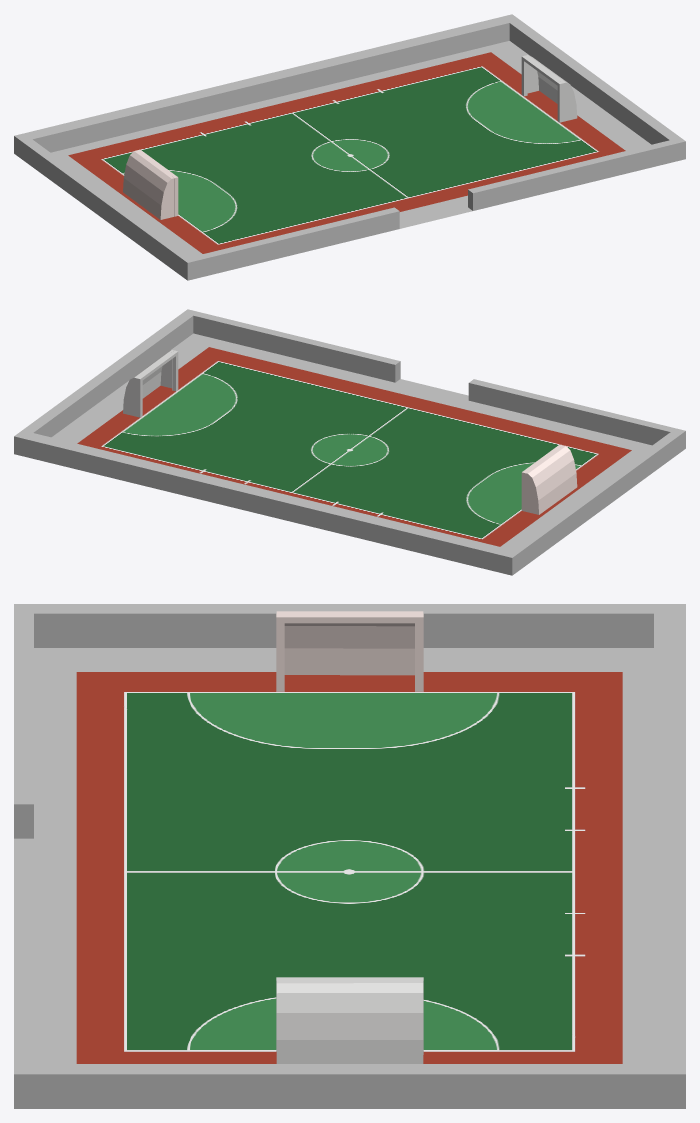
3 renders of one model, top to bottom at view 1: azimuth 30°, elevation 25°; view 2: azimuth 150°, elevation 25°; view 3: azimuth 270°, elevation 25°, orthographic. The views are drawn at different scales.
Visible parts, largest first — view 1: Plane, Plane.001, Cube.001, Cube; view 2: Plane, Plane.001, Cube.001, Cube; view 3: Plane, Plane.001, Cube, Cube.001.
Boxes of the visible parts, left/top/right/bottom form: Plane: left=68, top=52, right=625, bottom=253; Plane.001: left=14, top=14, right=685, bottom=280; Cube.001: left=123, top=149, right=178, bottom=219; Cube: left=521, top=55, right=577, bottom=122; Plane: left=77, top=347, right=631, bottom=546; Plane.001: left=14, top=309, right=685, bottom=575; Cube.001: left=521, top=444, right=577, bottom=514; Cube: left=123, top=350, right=178, bottom=417; Plane: left=76, top=672, right=622, bottom=1063; Plane.001: left=14, top=604, right=685, bottom=1108; Cube: left=276, top=977, right=423, bottom=1063; Cube.001: left=276, top=611, right=423, bottom=691.
Bounding box in the file's own units: 26.5 × 2.01 × 16.
4 materials, 1 textured.
